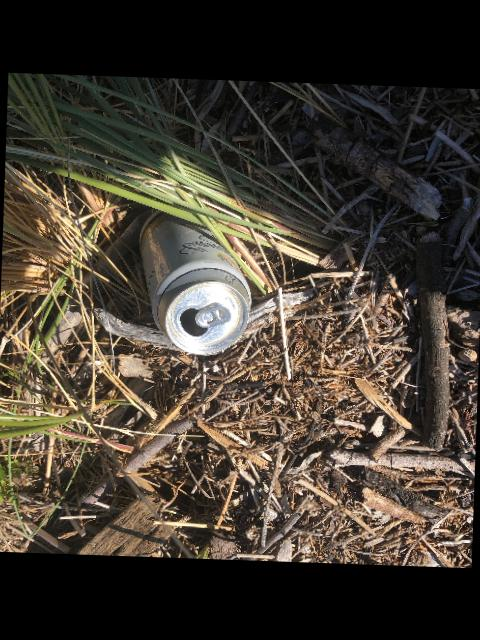metal: (140, 212, 251, 354)
